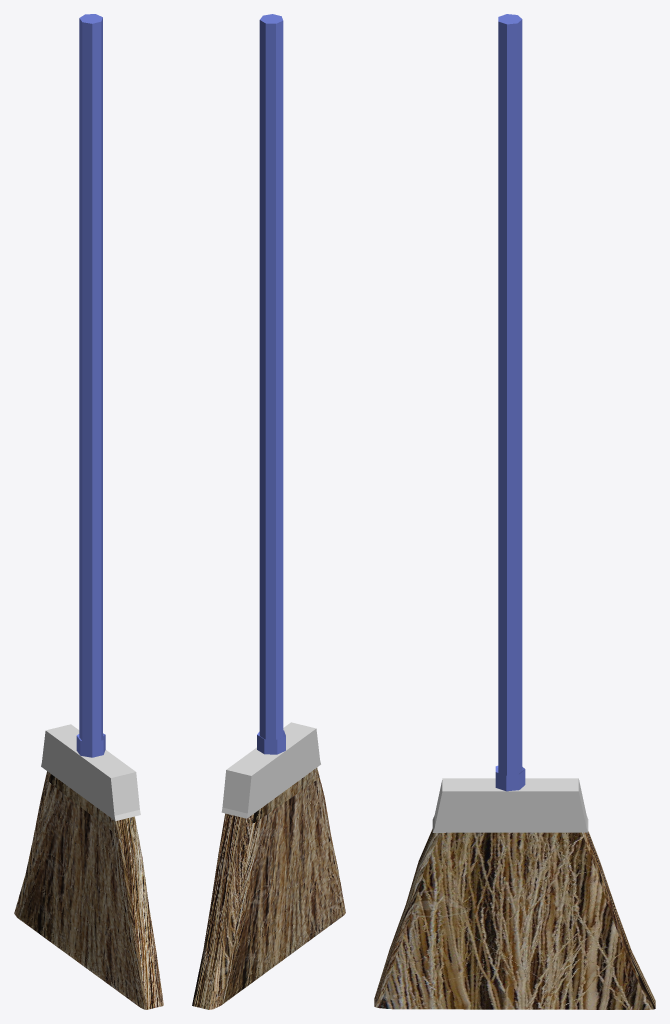
The model's file is Broom_Lin.fbx.
3 views of the same model, side by side, from view 1: azimuth 30°, elevation 25°; view 2: azimuth 150°, elevation 25°; view 3: azimuth 270°, elevation 25° (orthographic). The views are drawn at different scales.
Parts seen in each view (by area): view 1: Cube, Cylinder; view 2: Cube, Cylinder; view 3: Cube, Cylinder.
Boxes of the visible parts, left/top/right/bottom form: Cube: left=14, top=724, right=163, bottom=1009; Cylinder: left=76, top=14, right=105, bottom=757; Cube: left=192, top=722, right=345, bottom=1009; Cylinder: left=257, top=14, right=285, bottom=754; Cube: left=374, top=778, right=655, bottom=1009; Cylinder: left=495, top=14, right=525, bottom=791.
Size of the model in its own units: 41.26 by 1461 by 378.
